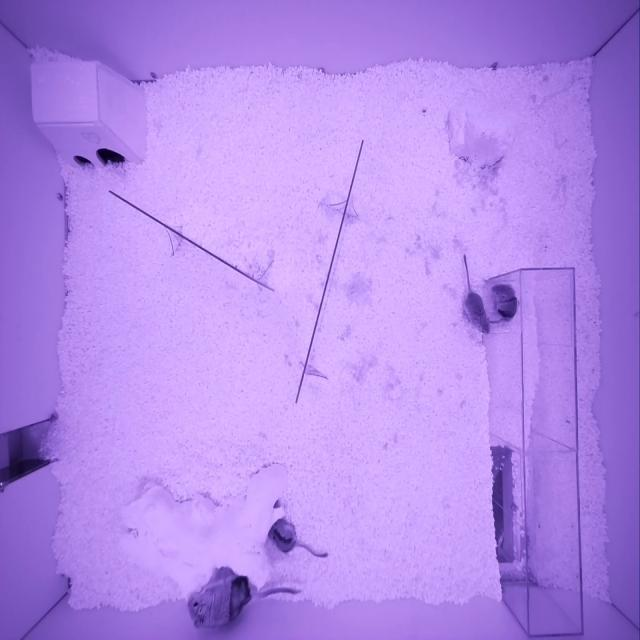adult_back: (188, 575, 258, 629)
pup_fluffy: (465, 292, 490, 335)
pup_h_stripe: (491, 284, 520, 320)
pup_v_stripe: (268, 518, 296, 551)
